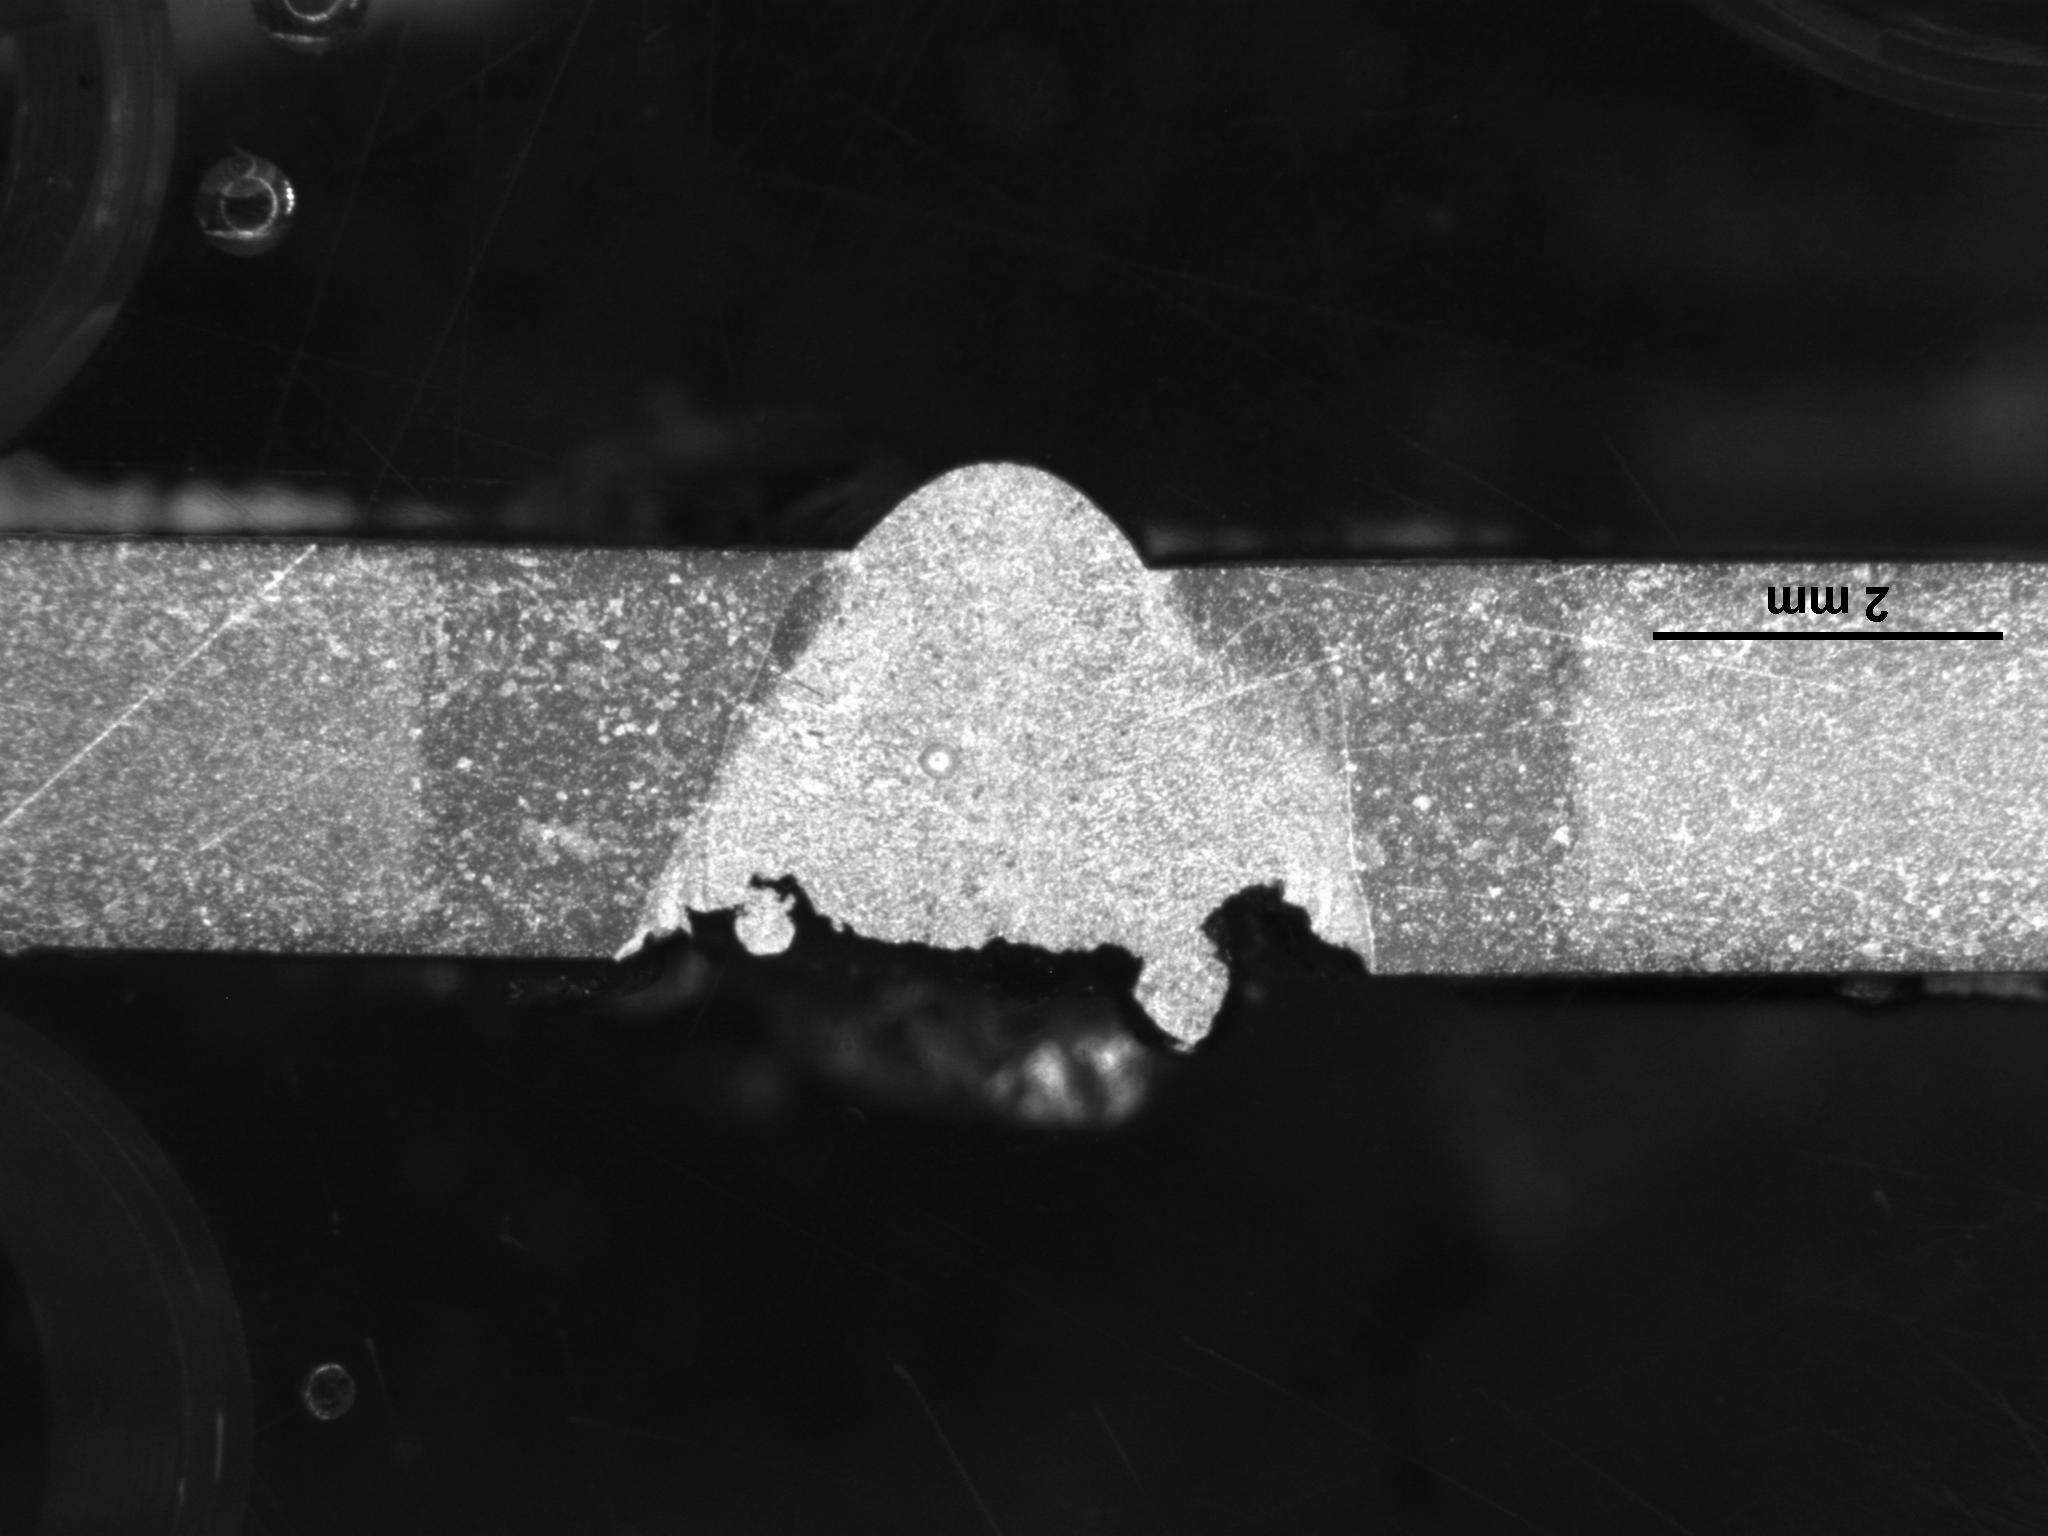Scale-bar: (1646, 576, 2009, 650)
